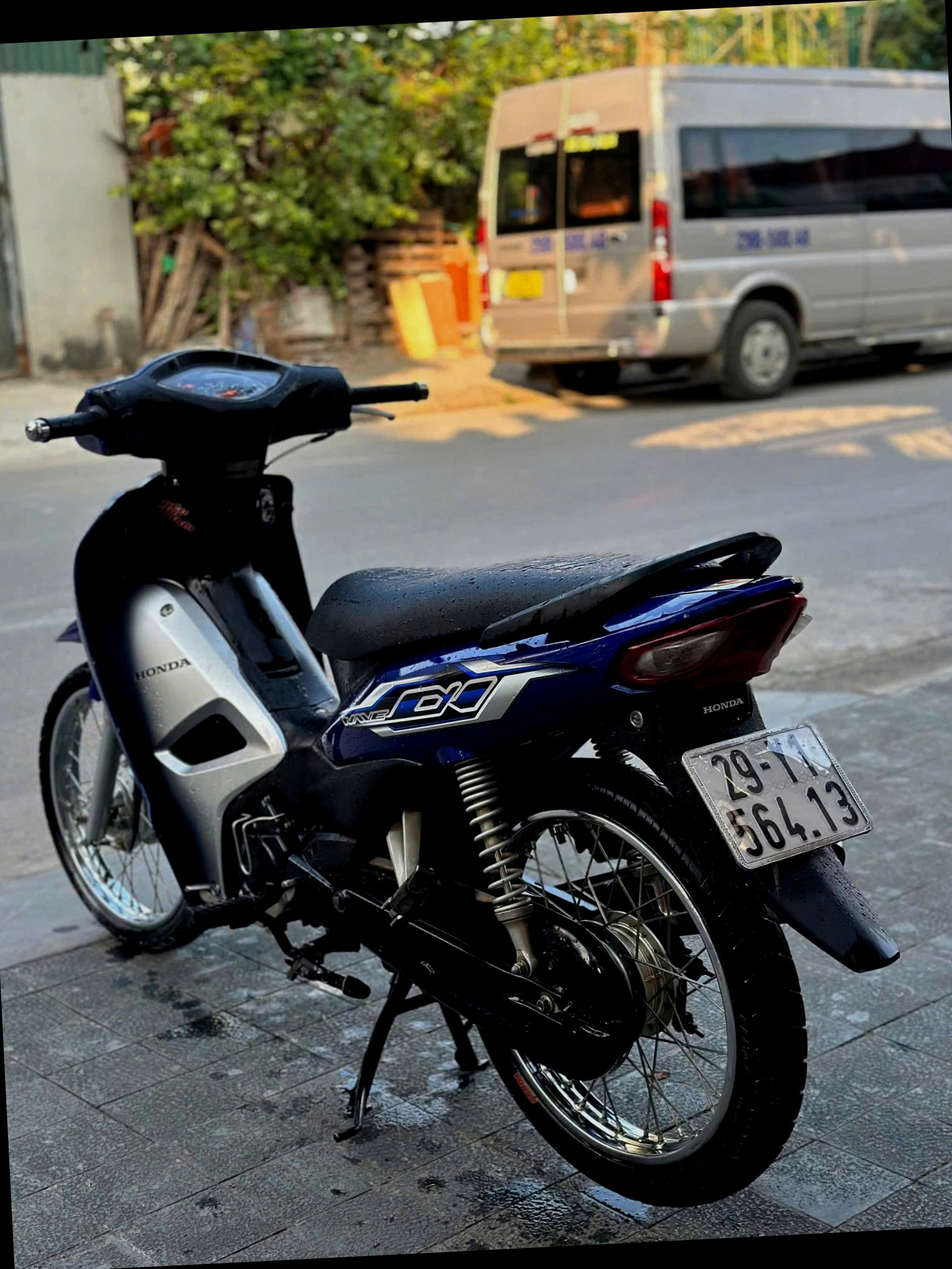Bien-so: (657, 722, 847, 869)
